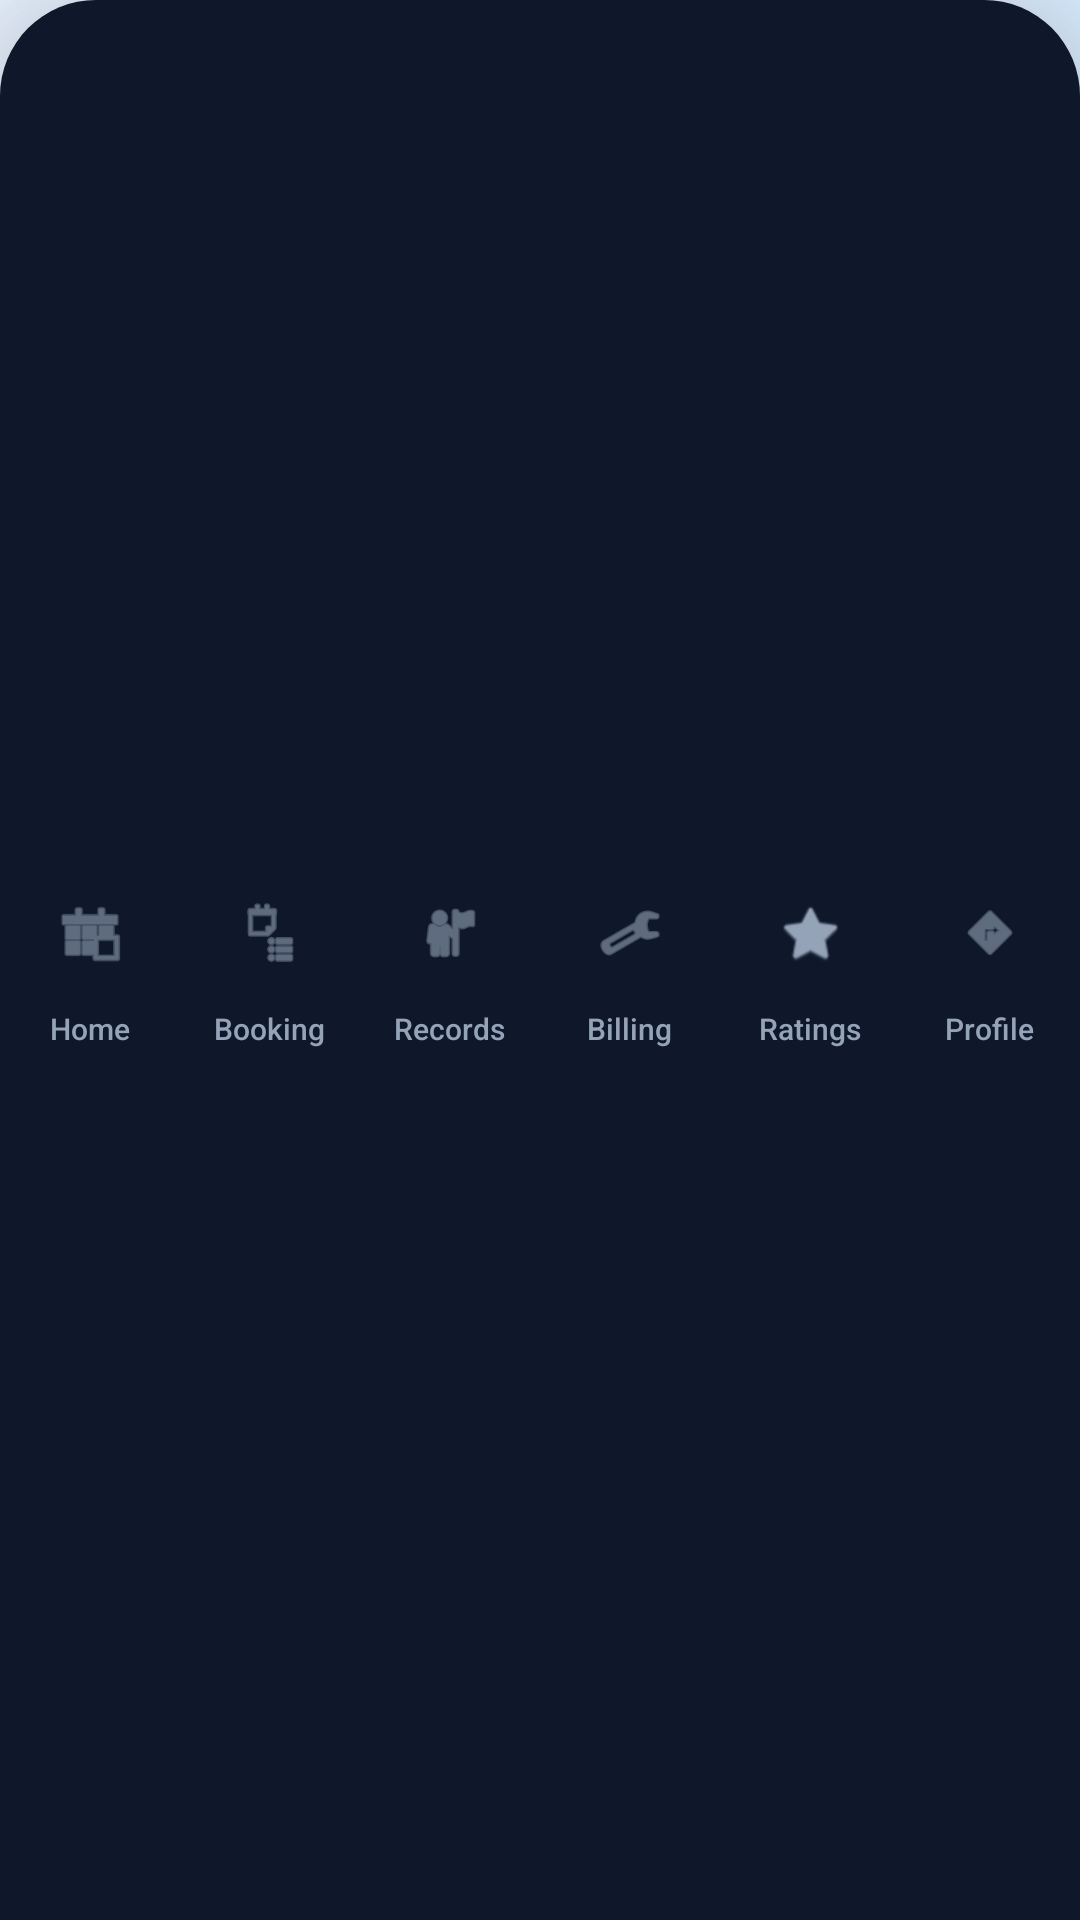

Point at icon controls on the screen. Image size 1080w x 1920h, points as (x=x, y=y).
agenda: (x=270, y=932)
directions: (x=990, y=932)
manage: (x=630, y=933)
myplaces: (x=450, y=933)
star: (x=810, y=933)
today: (x=90, y=934)
